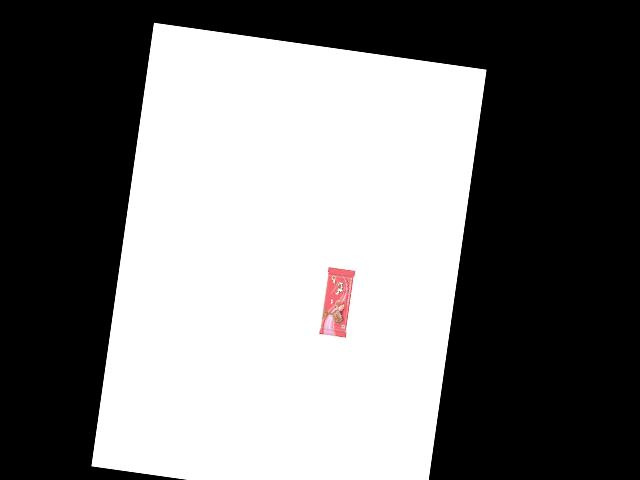chocolate: (319, 261, 360, 338)
